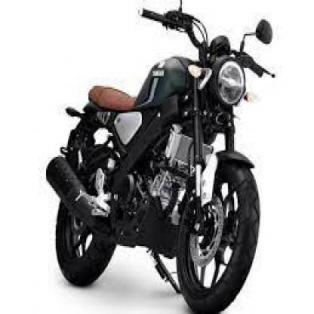Motocicleta: (42, 1, 286, 312)
